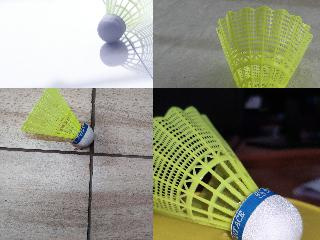shuttlecock: (153, 105, 300, 239), (215, 6, 313, 87), (21, 88, 94, 149), (97, 0, 152, 43)
